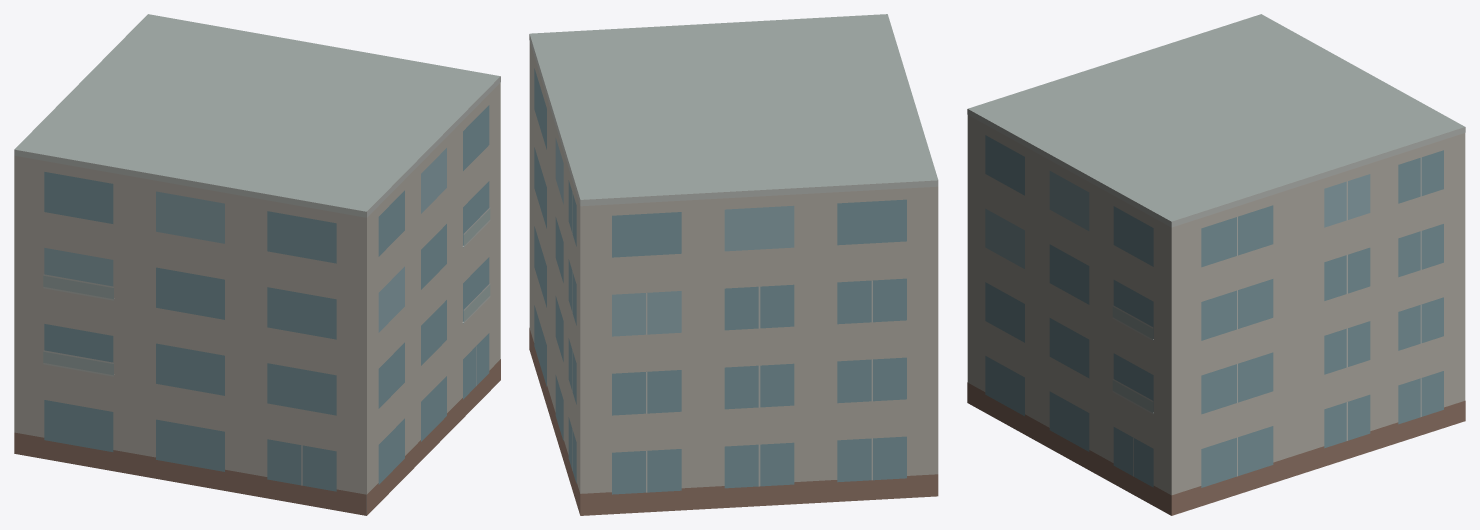
The model's file is residential-cfe16510-600b-471e-b8e5-9bcd2582cd22.glb.
3 renders of one model, left to right at view 1: azimuth 30°, elevation 25°; view 2: azimuth 150°, elevation 25°; view 3: azimuth 270°, elevation 25°, orthographic. The views are drawn at different scales.
Visible parts, largest first — view 1: residential-cfe16510-600b-471e-b8e5-9bcd2582cd22.tmp; view 2: residential-cfe16510-600b-471e-b8e5-9bcd2582cd22.tmp; view 3: residential-cfe16510-600b-471e-b8e5-9bcd2582cd22.tmp.
Part boxes in pixels (<box>): residential-cfe16510-600b-471e-b8e5-9bcd2582cd22.tmp: <box>14,14,500,515</box>; residential-cfe16510-600b-471e-b8e5-9bcd2582cd22.tmp: <box>529,14,938,515</box>; residential-cfe16510-600b-471e-b8e5-9bcd2582cd22.tmp: <box>967,14,1465,515</box>.
Size of the model in its own units: 18.48 by 12.2 by 18.72.
